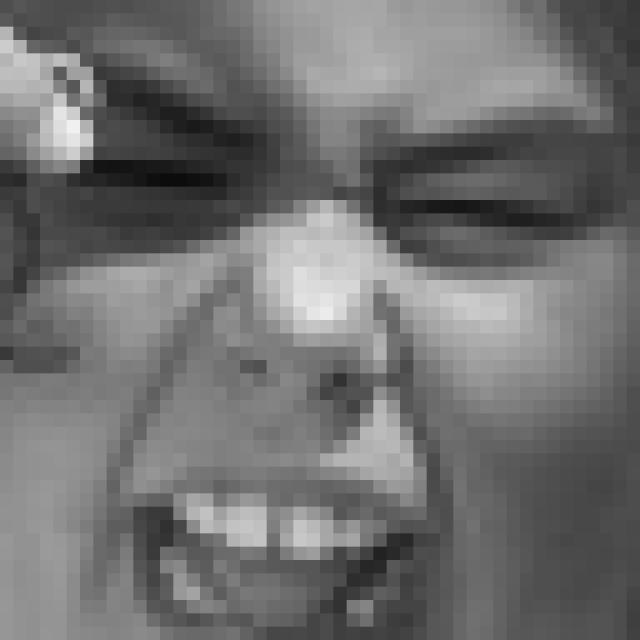disgust: (79, 59, 595, 640)
